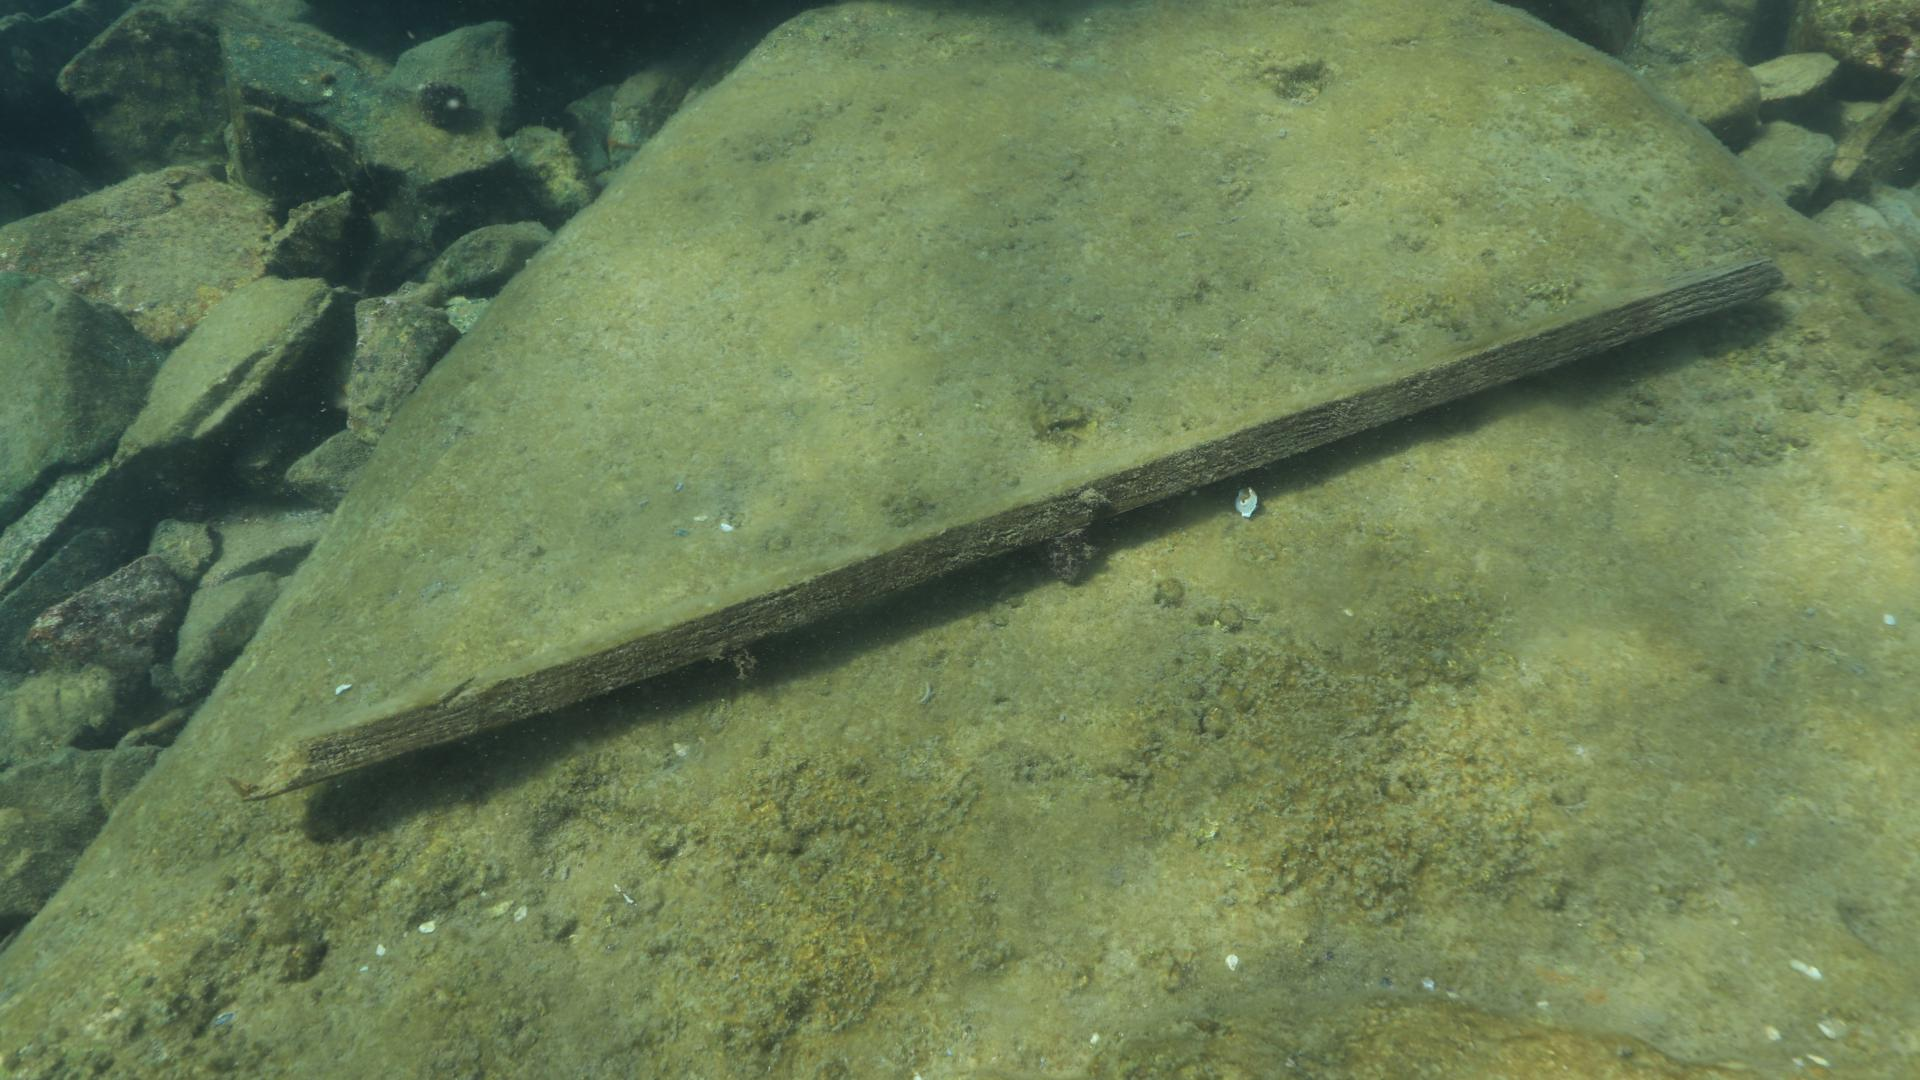wood: (240, 256, 1792, 807)
